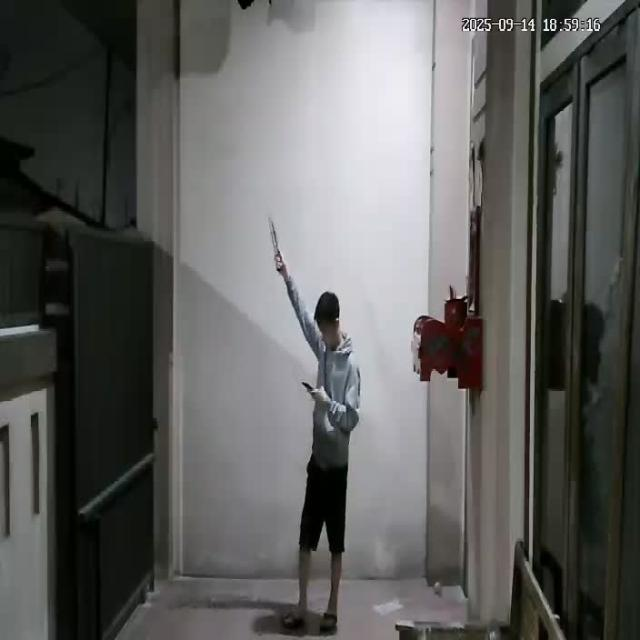senjata_tajam: (268, 215, 278, 254)
